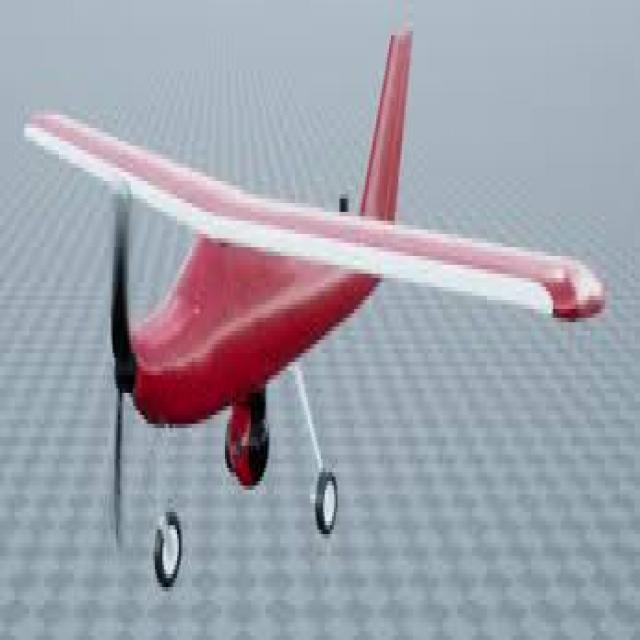UAV: (18, 79, 610, 542)
